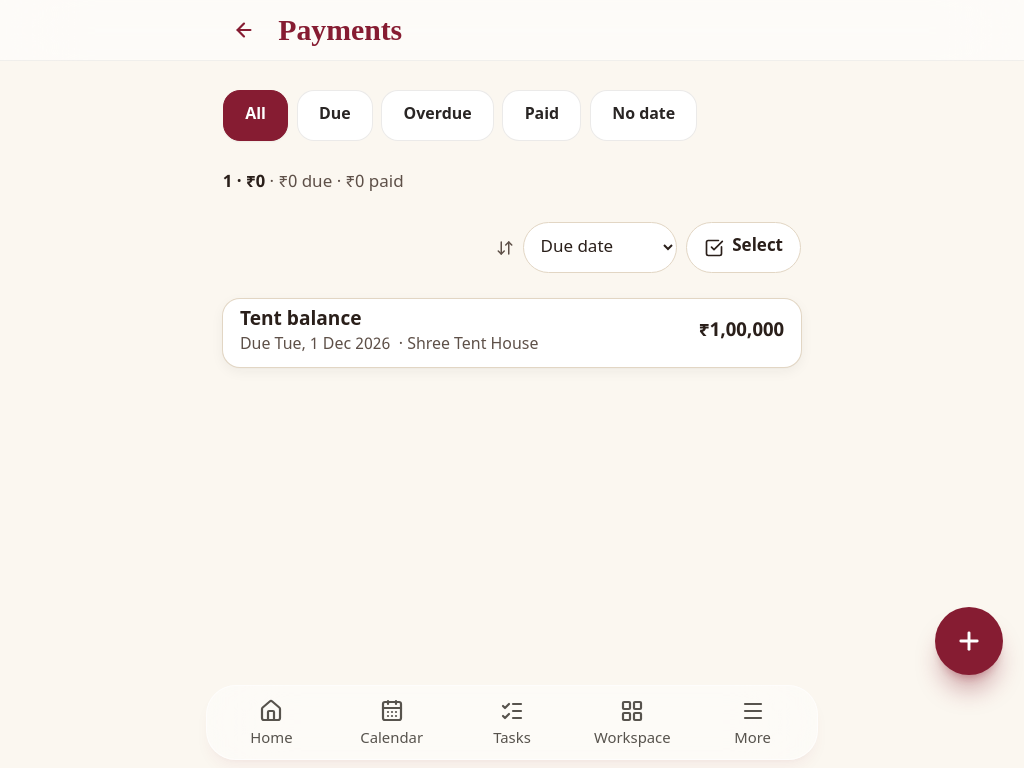
Test: Select mode on vendors and payments (1.0.24) › Papa: payments → Category → one request; no paid, amount or delete in bulk
This screenshot has width=1024, height=768.
Click the button "Select": (743, 248) [686,222,801,273]
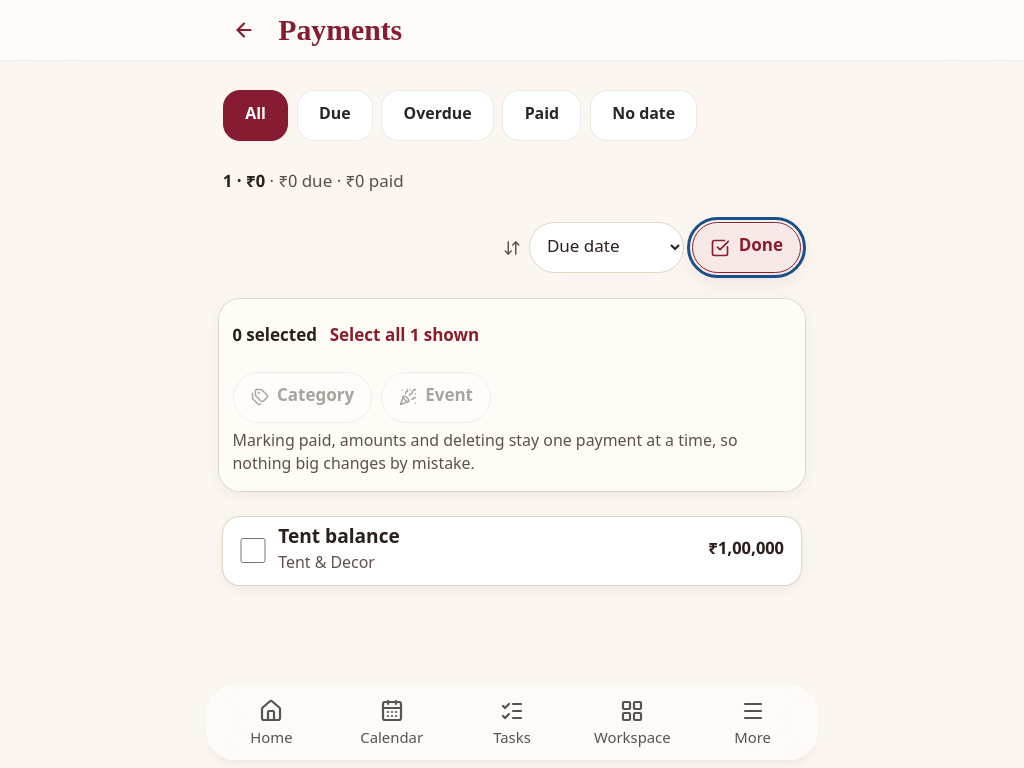
Click the checkbox named "Select Tent balance": (253, 551) [240,538,266,564]
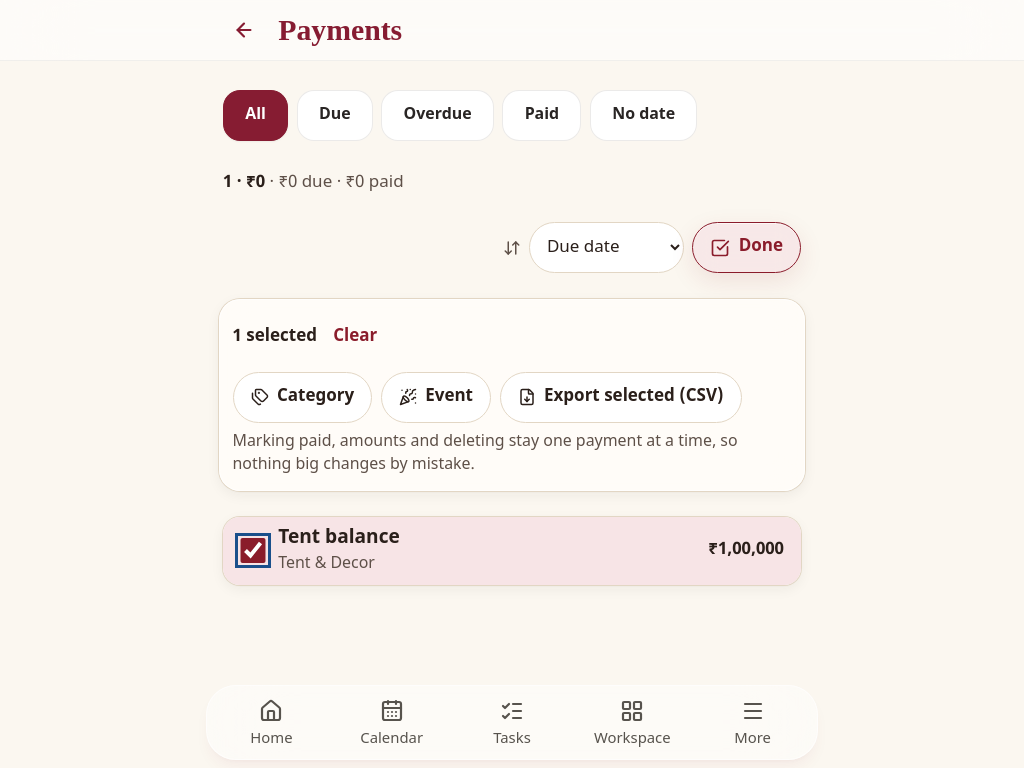
Click the button "Category": (302, 397) [232,372,372,423]
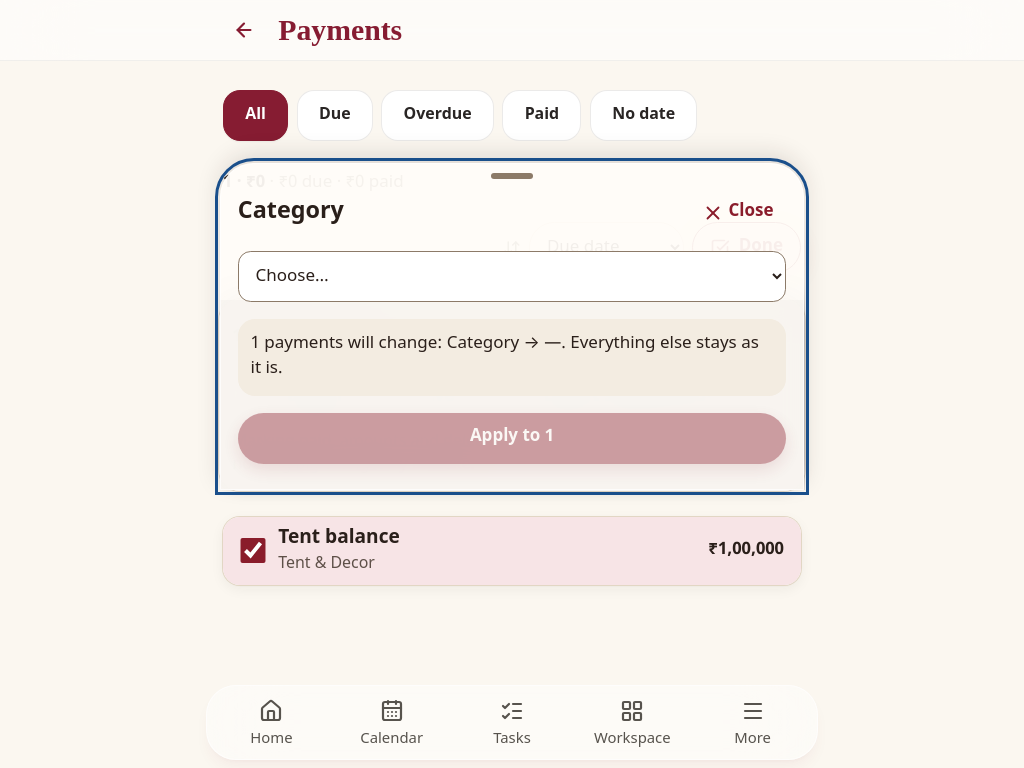
Select "Clothing" in the dropdown: (512, 277) [238,251,786,302]
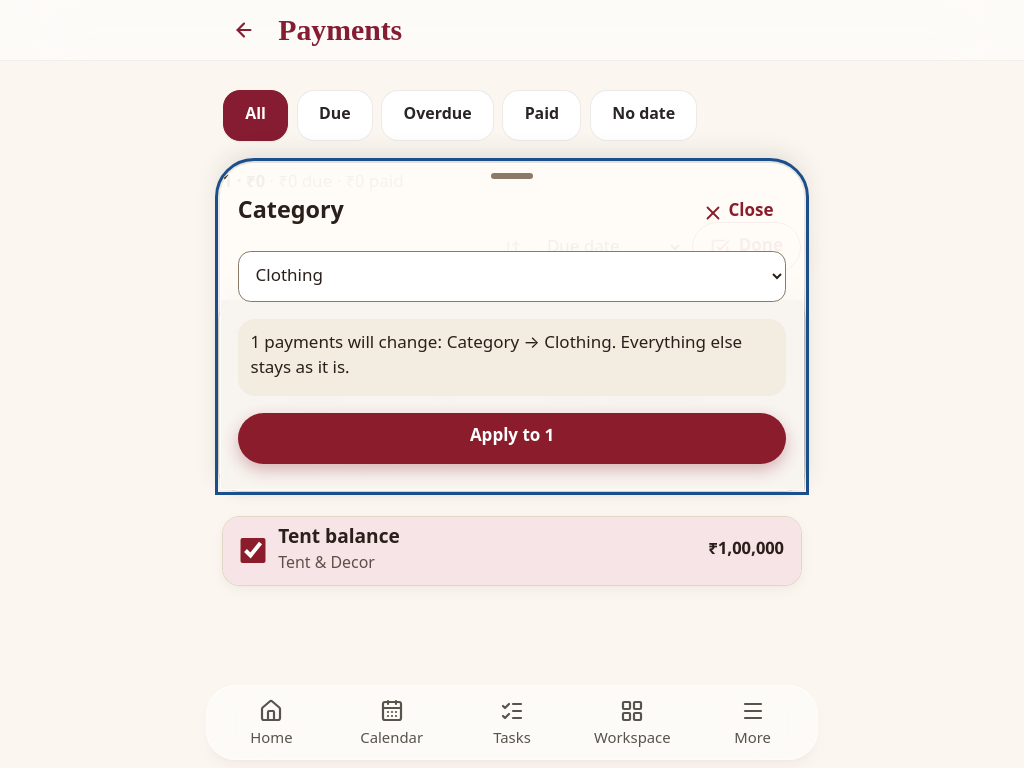
Click the button "Apply to 1": (512, 438) [238,413,786,464]
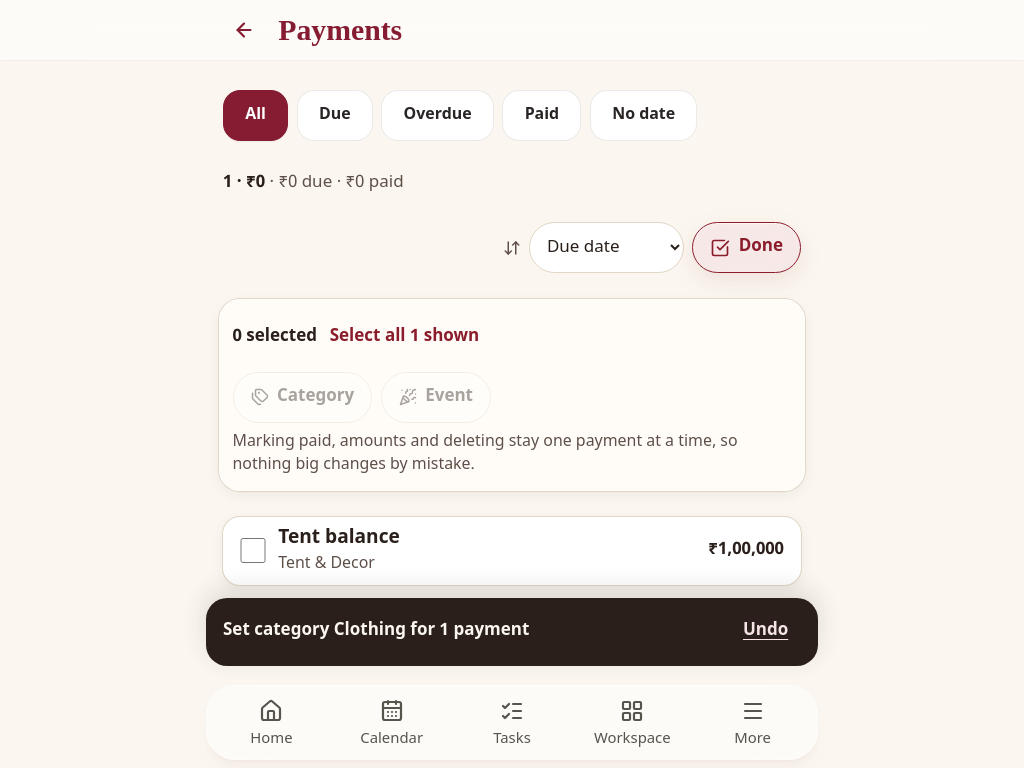
Now the text "Set category Clothing for 1 payment" is shown, box [223,620,529,642]
